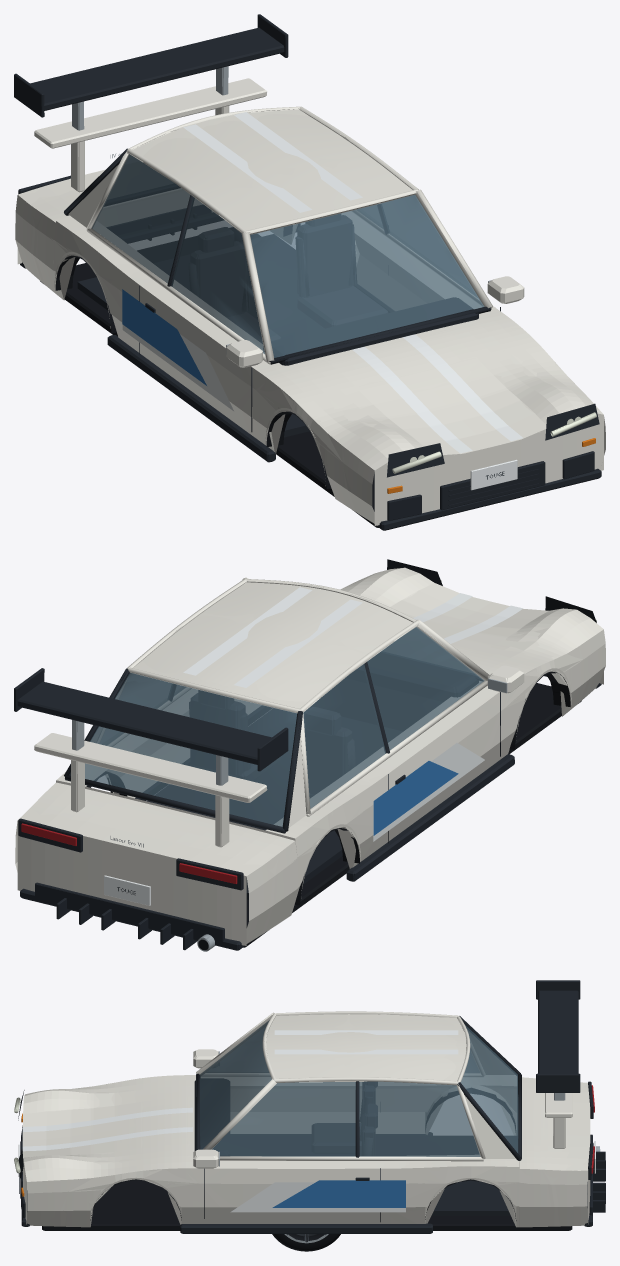
Rendered from evo7.glb.
The picture shows the model from 3 angles, top to bottom: view 1: azimuth 30°, elevation 25°; view 2: azimuth 150°, elevation 25°; view 3: azimuth 270°, elevation 25°; orthographic projection. The views are drawn at different scales.
Parts seen in each view (by area): view 1: LOD0_cabin, LOD0_body, LOD0_glass, LOD1_glass, LOD1_body, LOD0_hood, LOD1_hood, LOD1_spoiler_gt, LOD1_cabin, LOD0_spoiler_gt, LOD0_vinyl_twin, LOD0_vinyl_apex (+3 smaller); view 2: LOD0_body, LOD0_cabin, LOD0_glass, LOD1_glass, LOD1_body, LOD1_cabin, LOD1_spoiler_gt, LOD1_hood, LOD0_hood, LOD0_spoiler_gt, LOD0_vinyl_apex, LOD1_spoiler_stock (+3 smaller); view 3: LOD0_body, LOD0_cabin, LOD0_glass, LOD1_glass, LOD1_body, LOD0_hood, LOD1_hood, LOD0_vinyl_apex, LOD1_cabin, LOD1_spoiler_gt, LOD0_vinyl_twin, LOD1_vinyl_twin (+4 smaller).
Boxes of the visible parts, left/top/right/bottom form: LOD0_cabin: left=64, top=106, right=492, bottom=437; LOD0_body: left=15, top=171, right=603, bottom=530; LOD0_glass: left=92, top=154, right=484, bottom=357; LOD1_glass: left=92, top=155, right=483, bottom=357; LOD1_body: left=17, top=169, right=605, bottom=530; LOD0_hood: left=274, top=315, right=585, bottom=458; LOD1_hood: left=294, top=322, right=563, bottom=454; LOD1_spoiler_gt: left=14, top=27, right=288, bottom=130; LOD1_cabin: left=66, top=106, right=478, bottom=436; LOD0_spoiler_gt: left=14, top=14, right=288, bottom=130; LOD0_vinyl_twin: left=183, top=112, right=508, bottom=450; LOD0_vinyl_apex: left=122, top=289, right=233, bottom=410; LOD0_body: left=17, top=559, right=605, bottom=951; LOD0_cabin: left=64, top=577, right=489, bottom=899; LOD0_glass: left=85, top=627, right=483, bottom=826; LOD1_glass: left=85, top=627, right=484, bottom=826; LOD1_body: left=15, top=573, right=603, bottom=951; LOD1_cabin: left=64, top=578, right=486, bottom=899; LOD1_spoiler_gt: left=16, top=668, right=272, bottom=785; LOD1_hood: left=360, top=572, right=549, bottom=659; LOD0_hood: left=348, top=567, right=589, bottom=683; LOD0_spoiler_gt: left=14, top=668, right=288, bottom=785; LOD0_vinyl_apex: left=373, top=743, right=484, bottom=841; LOD1_spoiler_stock: left=34, top=733, right=267, bottom=847; LOD0_body: left=14, top=1049, right=605, bottom=1233; LOD0_cabin: left=194, top=1011, right=521, bottom=1215; LOD0_glass: left=200, top=1020, right=518, bottom=1156; LOD1_glass: left=199, top=1021, right=518, bottom=1156; LOD1_body: left=14, top=1049, right=599, bottom=1233; LOD0_hood: left=23, top=1080, right=195, bottom=1170; LOD1_hood: left=22, top=1086, right=189, bottom=1162; LOD0_vinyl_apex: left=230, top=1180, right=405, bottom=1212; LOD1_cabin: left=195, top=1012, right=520, bottom=1215; LOD1_spoiler_gt: left=536, top=981, right=580, bottom=1099; LOD0_vinyl_twin: left=24, top=1030, right=458, bottom=1151; LOD1_vinyl_twin: left=22, top=1030, right=458, bottom=1151.
Bounding box in the file's own units: 2.03 × 1.9 × 4.65.
